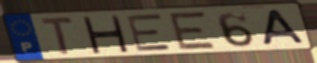6: (216, 10, 257, 48)
A: (261, 8, 307, 47)
E: (168, 10, 218, 52), (124, 12, 175, 53)
H: (79, 15, 131, 54)
T: (38, 15, 76, 57)
